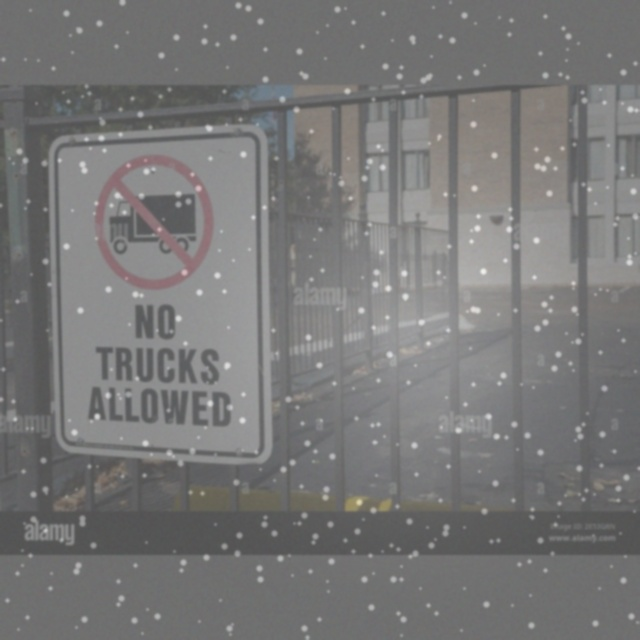Truck_Prohibited: (89, 144, 220, 298)
